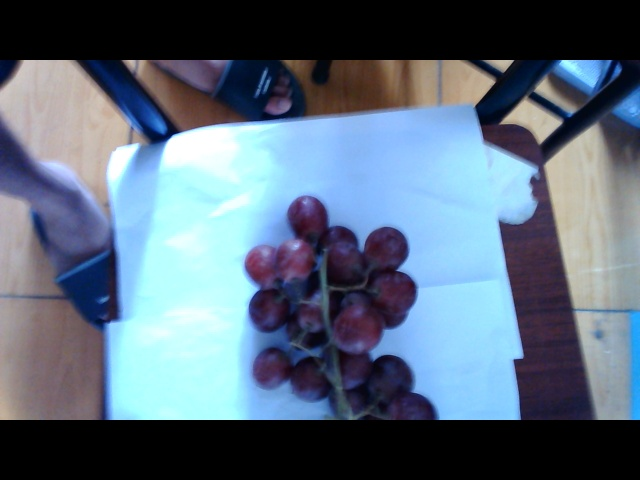grape: (231, 185, 443, 419)
